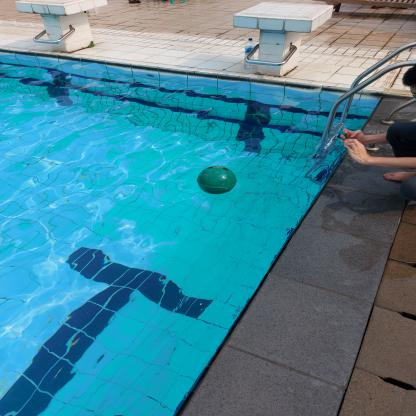green_buoy: (195, 165, 241, 196)
